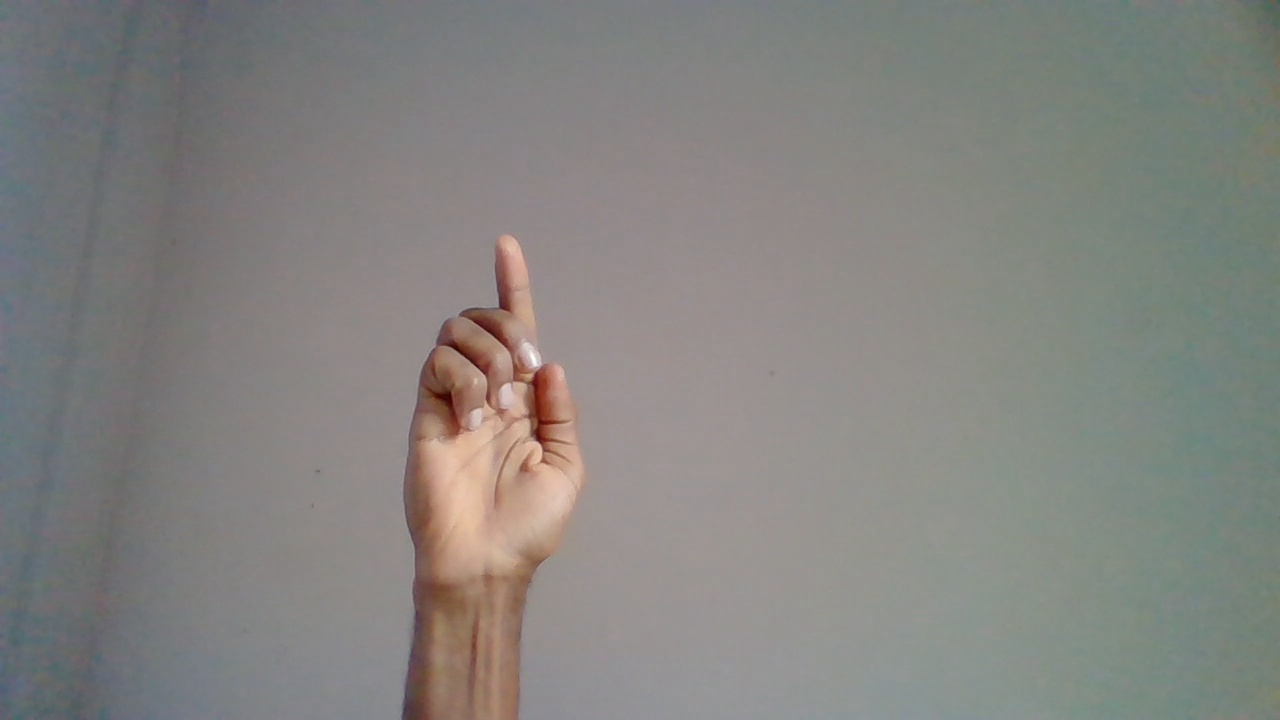qe: (396, 237, 585, 686)
